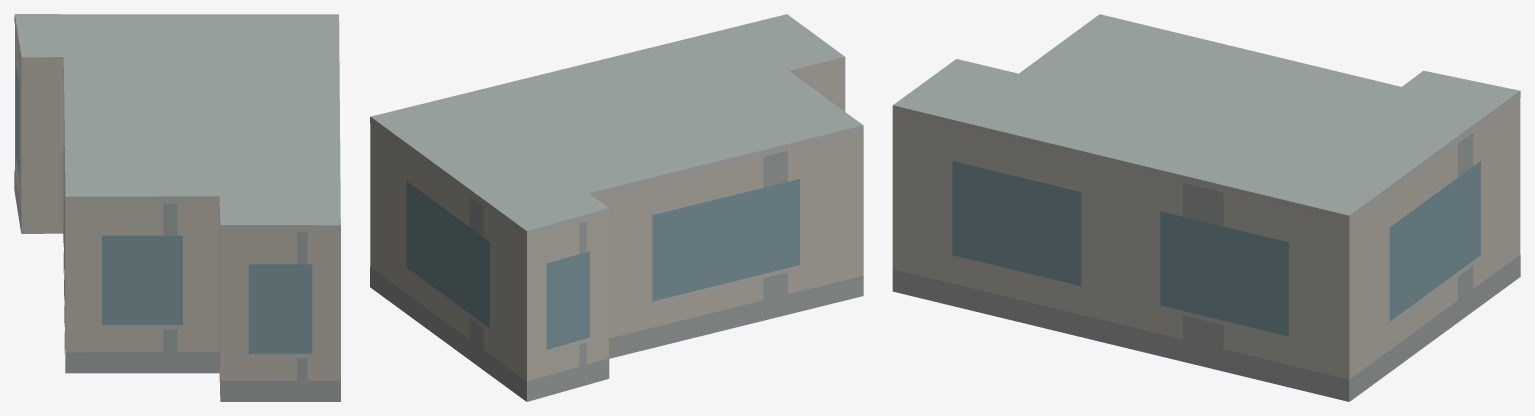
Rendered from residential-4c63277e-cfaf-4c66-992f-976b2ed668e2.glb.
3 views of the same model, side by side, from view 1: azimuth 30°, elevation 25°; view 2: azimuth 150°, elevation 25°; view 3: azimuth 270°, elevation 25° (orthographic). The views are drawn at different scales.
Parts seen in each view (by area): view 1: residential-4c63277e-cfaf-4c66-992f-976b2ed668e2.tmp; view 2: residential-4c63277e-cfaf-4c66-992f-976b2ed668e2.tmp; view 3: residential-4c63277e-cfaf-4c66-992f-976b2ed668e2.tmp.
Boxes of the visible parts, <box> form: residential-4c63277e-cfaf-4c66-992f-976b2ed668e2.tmp: <box>14,14,340,401</box>; residential-4c63277e-cfaf-4c66-992f-976b2ed668e2.tmp: <box>370,14,863,401</box>; residential-4c63277e-cfaf-4c66-992f-976b2ed668e2.tmp: <box>892,14,1520,401</box>.
Bounding box in the file's own units: 7.09 × 3.05 × 9.33.
